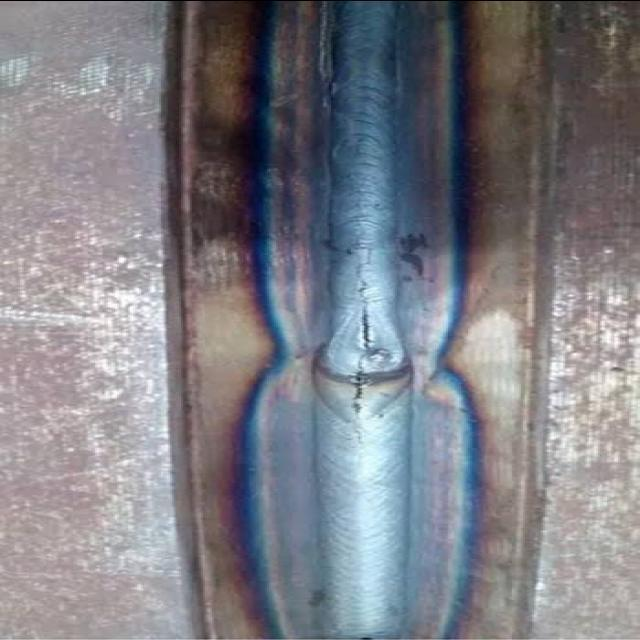Crack: (342, 235, 378, 418)
